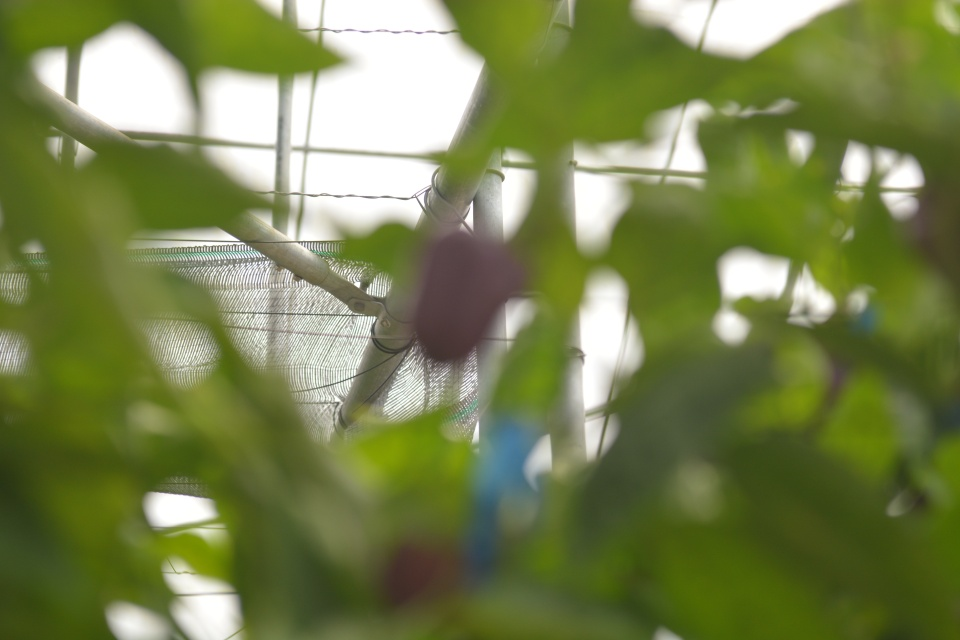fruit: (411, 229, 526, 368)
